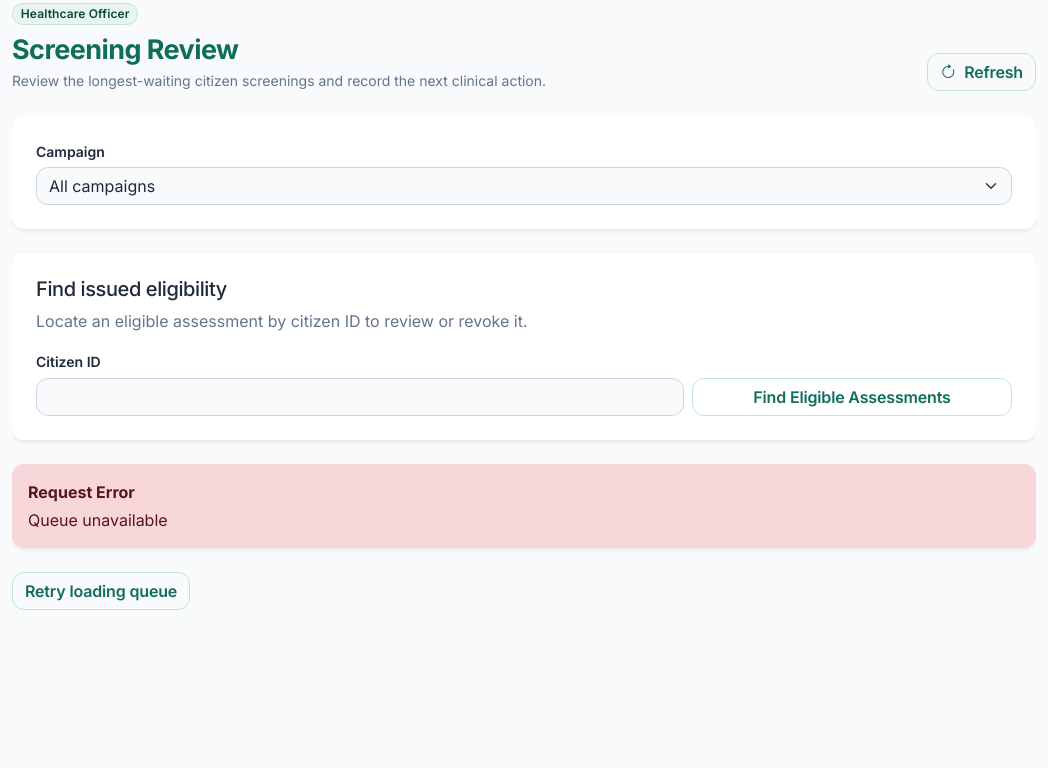
Test: HealthcareOfficerScreeningReviewQueuePage › shows a queue API error and supports a manual retry
Expected: the text "Queue unavailable" is shown, [28,508,168,532]
What coordinates should you click on to do the following:
click the button "Retry loading queue"
I would click on:
 (101, 591)
Its box is [12,572,190,610].
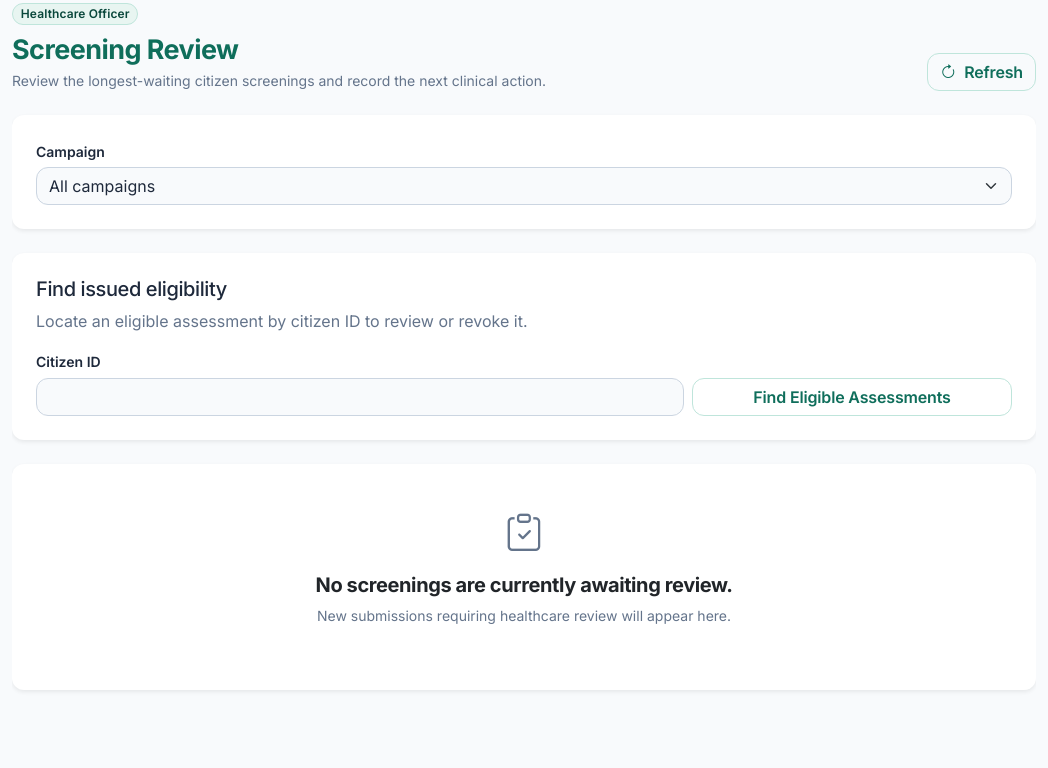
Now the heading "No screenings are currently awaiting review." is shown, box [316,572,732,596]
